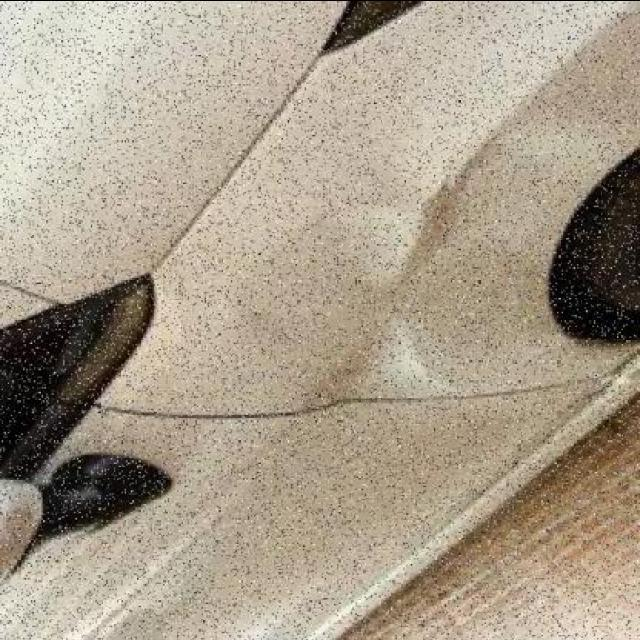fender-dent: (245, 46, 637, 419)
